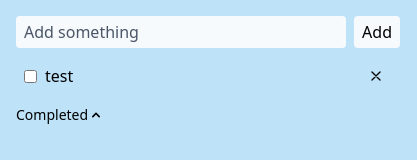
Scenario: should complete todo
This screenshot has width=417, height=160.
Click the checkbox: [30, 76] box [24,70,37,82]
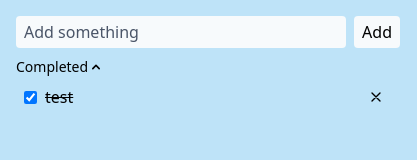
Now the checkbox is checked, box [24,90,37,104]
